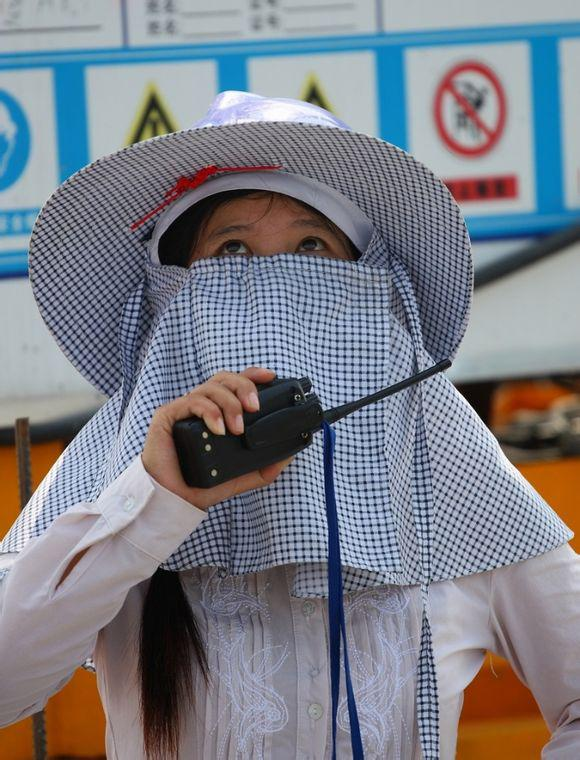OK: (182, 221, 358, 397)
